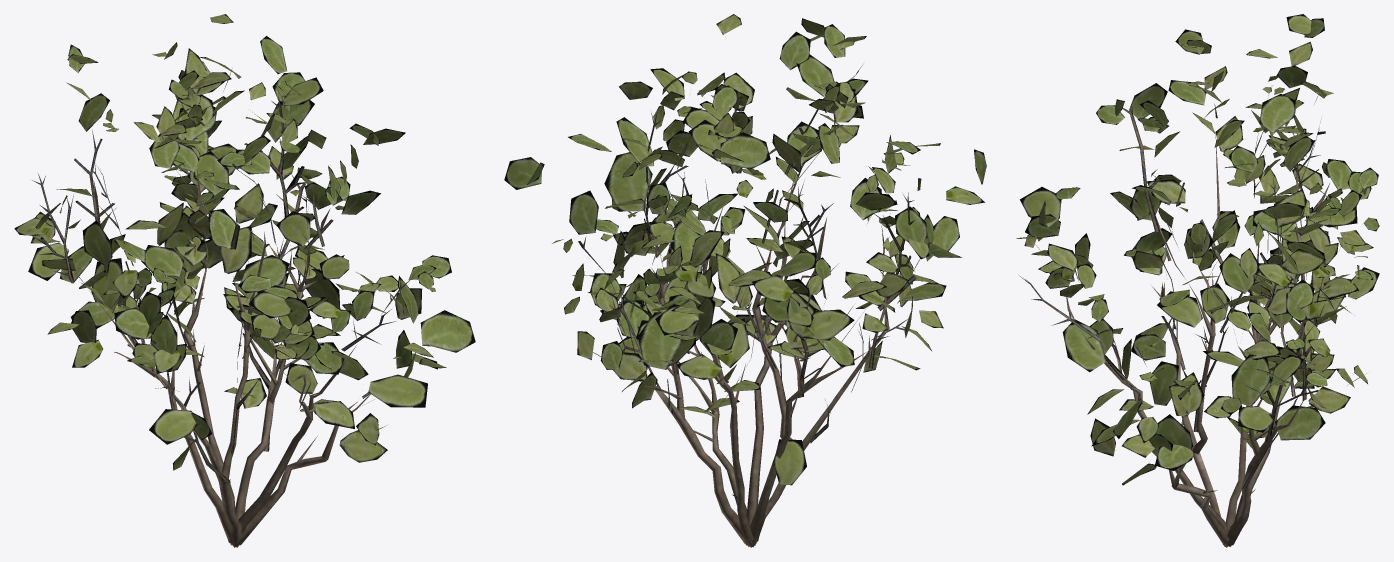
File: arbuste_searsia_d_lod1.glb
The picture shows the model from 3 angles, left to right: view 1: azimuth 30°, elevation 25°; view 2: azimuth 150°, elevation 25°; view 3: azimuth 270°, elevation 25°; orthographic projection. The views are drawn at different scales.
Parts seen in each view (by area): view 1: searsia_lucida_d_LOD0; view 2: searsia_lucida_d_LOD0; view 3: searsia_lucida_d_LOD0.
Part boxes in pixels (x1=…): searsia_lucida_d_LOD0: x1=14, y1=14, x2=475, y2=547; searsia_lucida_d_LOD0: x1=504, y1=14, x2=986, y2=547; searsia_lucida_d_LOD0: x1=1016, y1=14, x2=1379, y2=547.
Size of the model in its own units: 1.06 by 1.32 by 0.8831.
2 materials, 2 textured.
